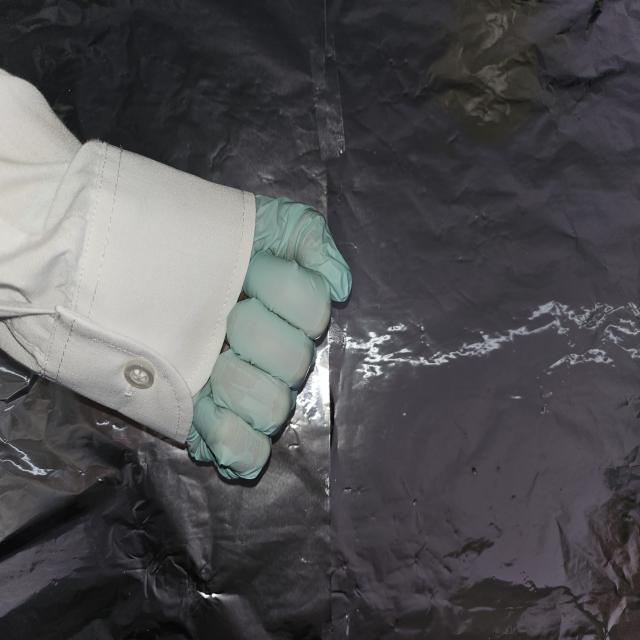gloves_damaged: (186, 193, 354, 485)
